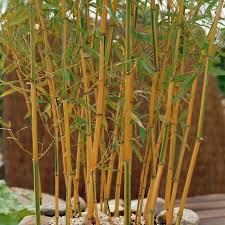bamboo: (12, 7, 217, 195)
